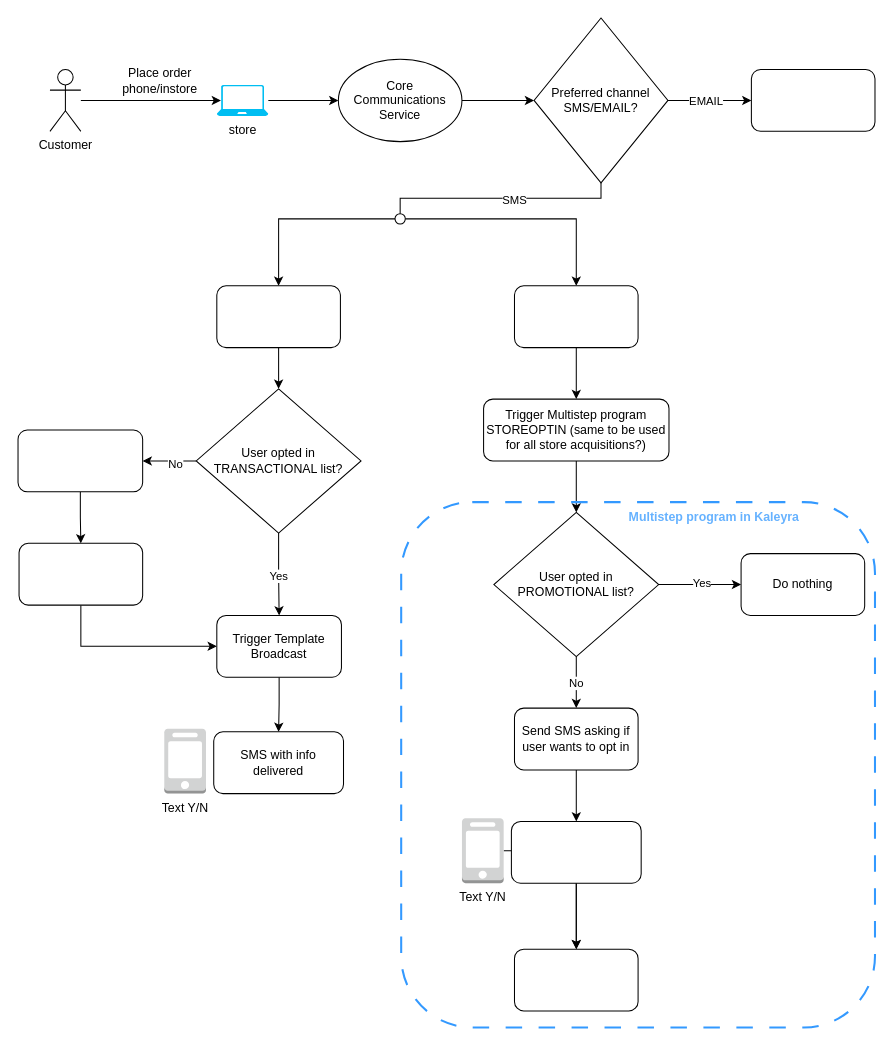
This 894x1046 diagram has some shape labels left out. The shapes that lost their labels are listed below. From the top down, each one's box as (x1, y1, x2, y2) in pixels, then its label:
(750, 68, 875, 131): New PCM Template?
(216, 285, 340, 348): Order Confirmation Process
(513, 285, 638, 348): Promotional opt process
(17, 429, 143, 492): Optin phone to TRANSACTIONAL list via Kaleyra optin API
(18, 542, 143, 605): Optin phone to TRANSACTIONAL in OneView?
(510, 820, 641, 883): Listen for Y/N customer response and optin in case of Y
(513, 948, 638, 1011): Send confirmation SMS if user gets opted in
